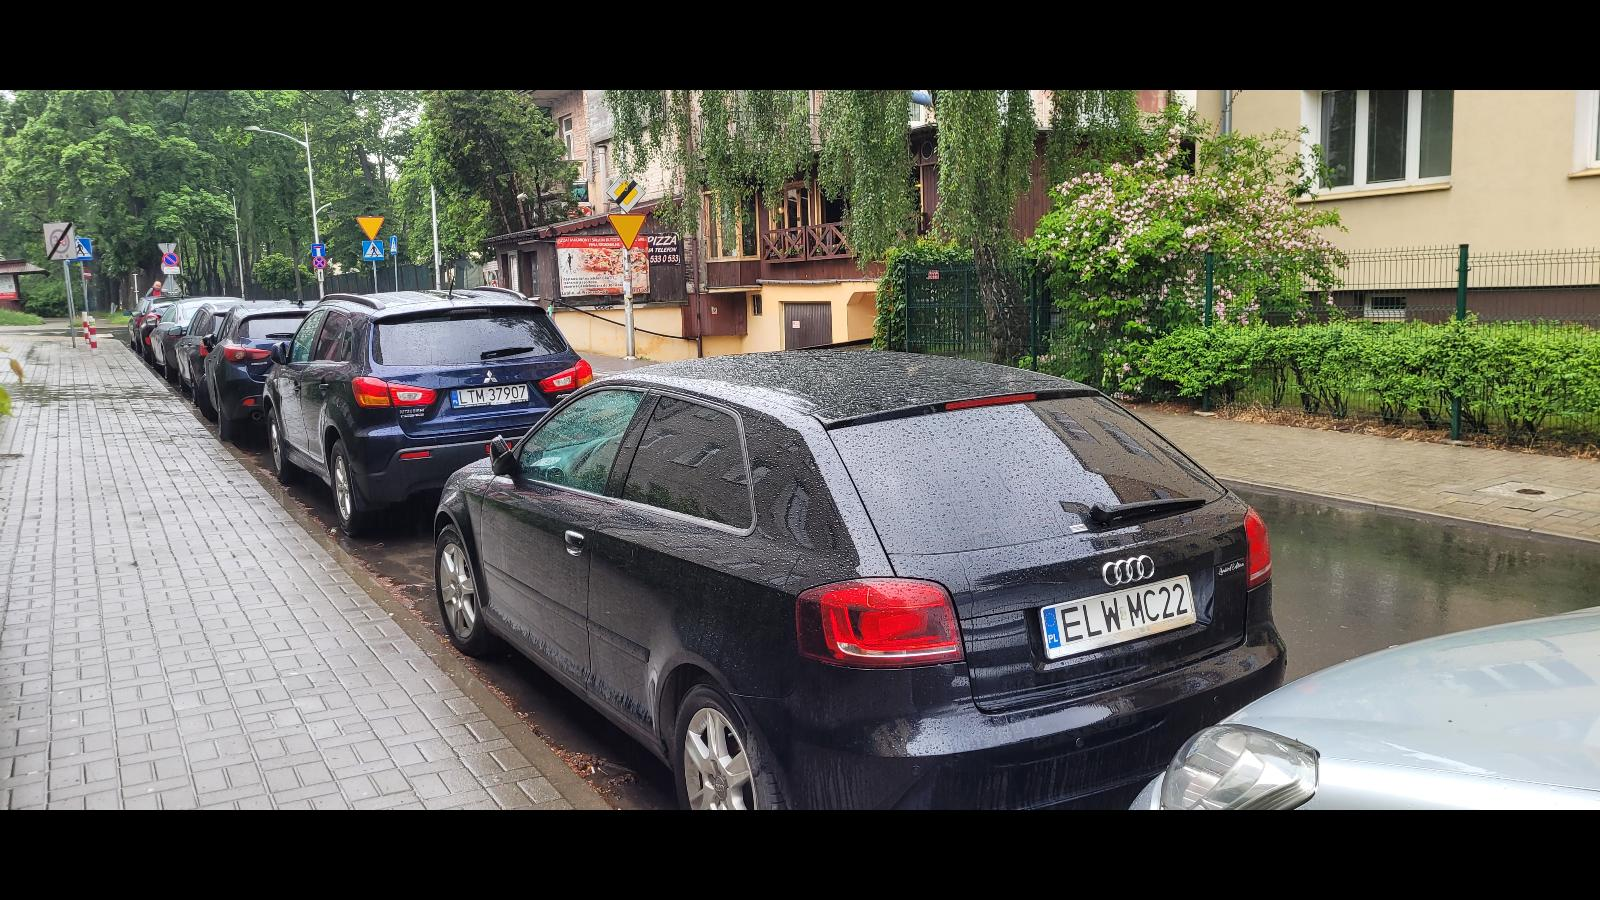plates: (1041, 576, 1197, 658), (450, 383, 530, 409)
